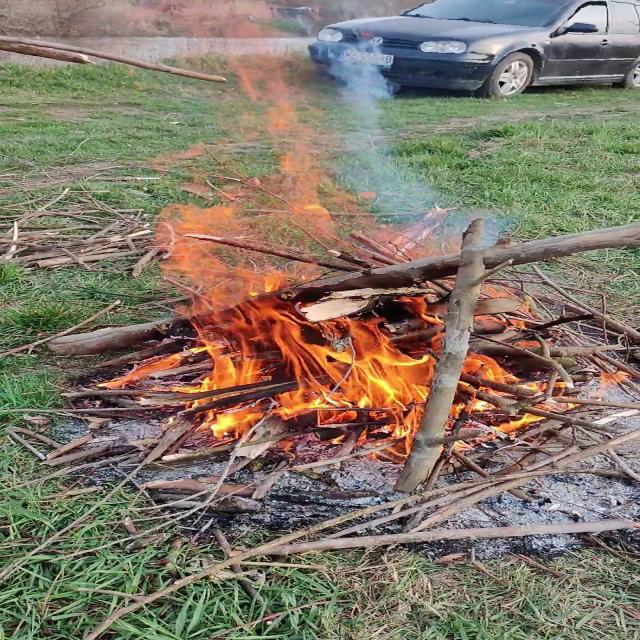Fire: (50, 45, 575, 452)
